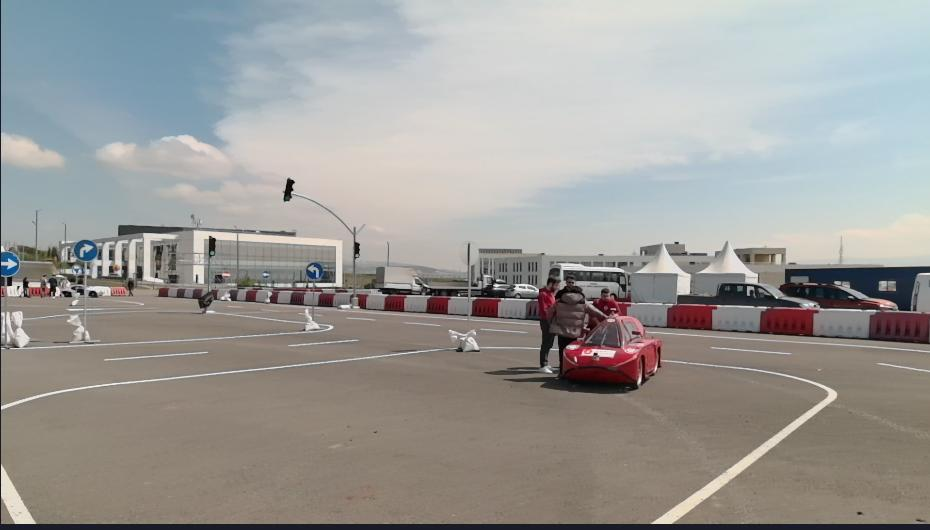nesne: (0, 297, 927, 526), (641, 325, 929, 520), (650, 360, 836, 523), (2, 346, 452, 408), (12, 323, 332, 347), (559, 316, 663, 386), (552, 276, 610, 372), (292, 193, 368, 240), (677, 282, 819, 307), (782, 283, 898, 310), (547, 264, 628, 300), (359, 289, 467, 315), (1, 463, 39, 526), (870, 310, 929, 346), (536, 277, 556, 371), (103, 345, 212, 362), (813, 310, 871, 338), (762, 306, 813, 337), (666, 302, 712, 331), (712, 307, 761, 333), (376, 265, 424, 291), (208, 309, 300, 321), (629, 301, 668, 328), (286, 334, 361, 347), (472, 274, 509, 298), (713, 344, 793, 355), (910, 273, 930, 311), (876, 360, 930, 374), (448, 327, 478, 352), (9, 311, 31, 344), (594, 288, 620, 315), (81, 258, 89, 343), (425, 275, 466, 291), (66, 313, 91, 339), (212, 287, 261, 300), (457, 237, 480, 264), (54, 274, 82, 295), (73, 238, 98, 259), (504, 284, 538, 299), (0, 251, 22, 274), (465, 240, 470, 337), (496, 300, 524, 317), (472, 297, 497, 316), (425, 295, 449, 313), (298, 308, 317, 329), (522, 299, 541, 320), (403, 294, 427, 310), (198, 291, 215, 313), (3, 274, 8, 348), (384, 294, 405, 311), (281, 178, 295, 202), (448, 295, 466, 313), (305, 260, 322, 279), (365, 294, 384, 309), (88, 285, 111, 297), (333, 293, 352, 306), (352, 256, 358, 296), (318, 293, 333, 308), (288, 290, 304, 304), (614, 303, 630, 316), (48, 272, 56, 297), (110, 286, 129, 295), (244, 288, 256, 302), (41, 272, 47, 296), (278, 290, 290, 302), (70, 262, 81, 275), (8, 286, 22, 296), (208, 236, 215, 256), (207, 256, 211, 291), (351, 295, 361, 309), (357, 292, 365, 309), (156, 285, 168, 296), (217, 289, 229, 300), (311, 279, 314, 320), (128, 276, 134, 296), (313, 291, 320, 307), (236, 289, 246, 300), (270, 290, 278, 303), (167, 286, 177, 296), (228, 289, 237, 300), (28, 286, 40, 294), (265, 289, 272, 302), (183, 288, 193, 297), (256, 290, 264, 301), (260, 270, 270, 278), (305, 291, 311, 304), (24, 276, 28, 294), (176, 287, 184, 296), (193, 288, 201, 297), (338, 303, 351, 308), (211, 290, 216, 300), (263, 278, 264, 302)
